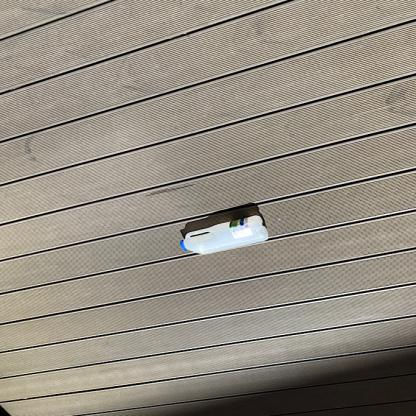trash: (177, 212, 276, 254)
